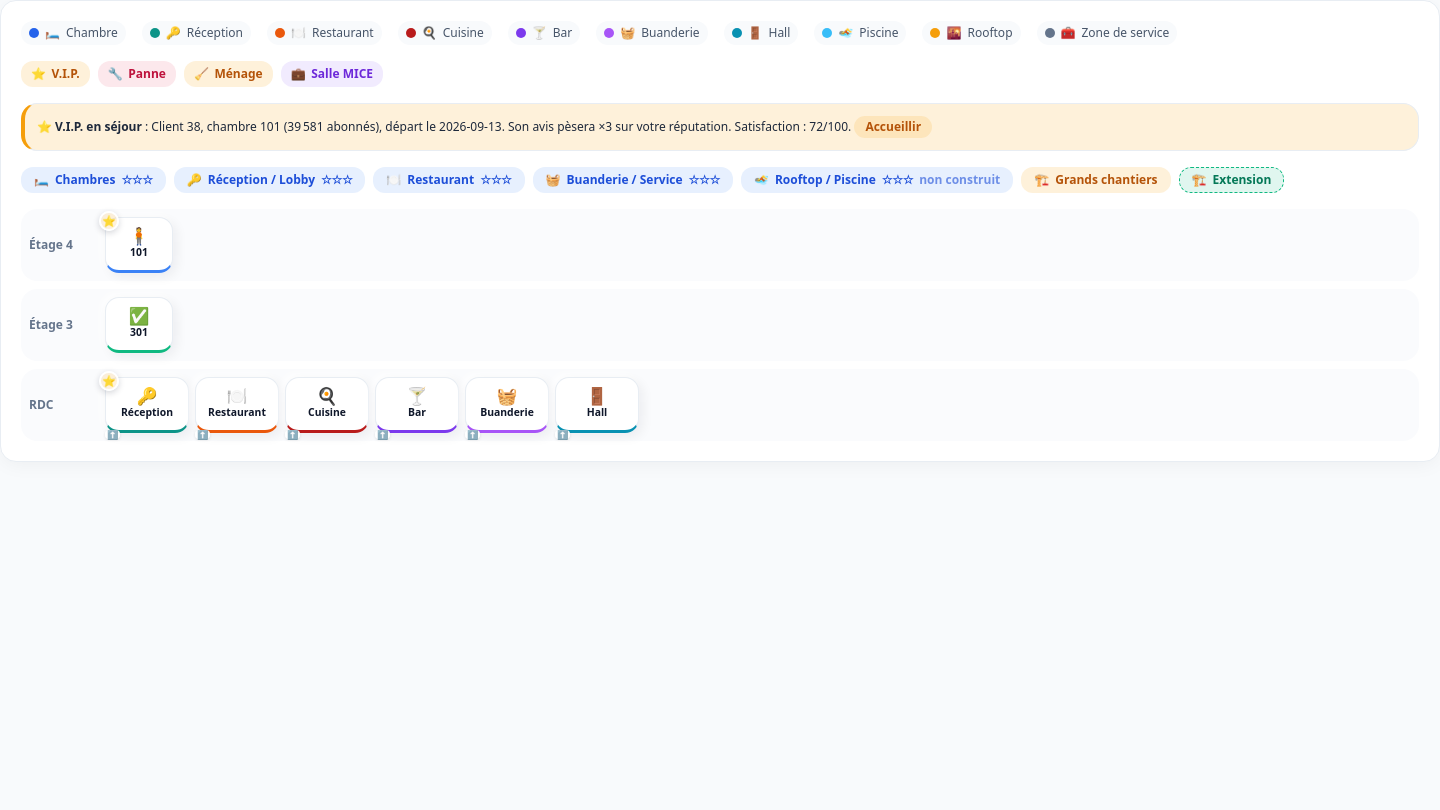
Test: SchematicHotelView / V.I.P. welcome modal › closing the modal removes it
Click the button with test id "schematic-room-101-vip" at point(109, 221), box [99,211,119,231]
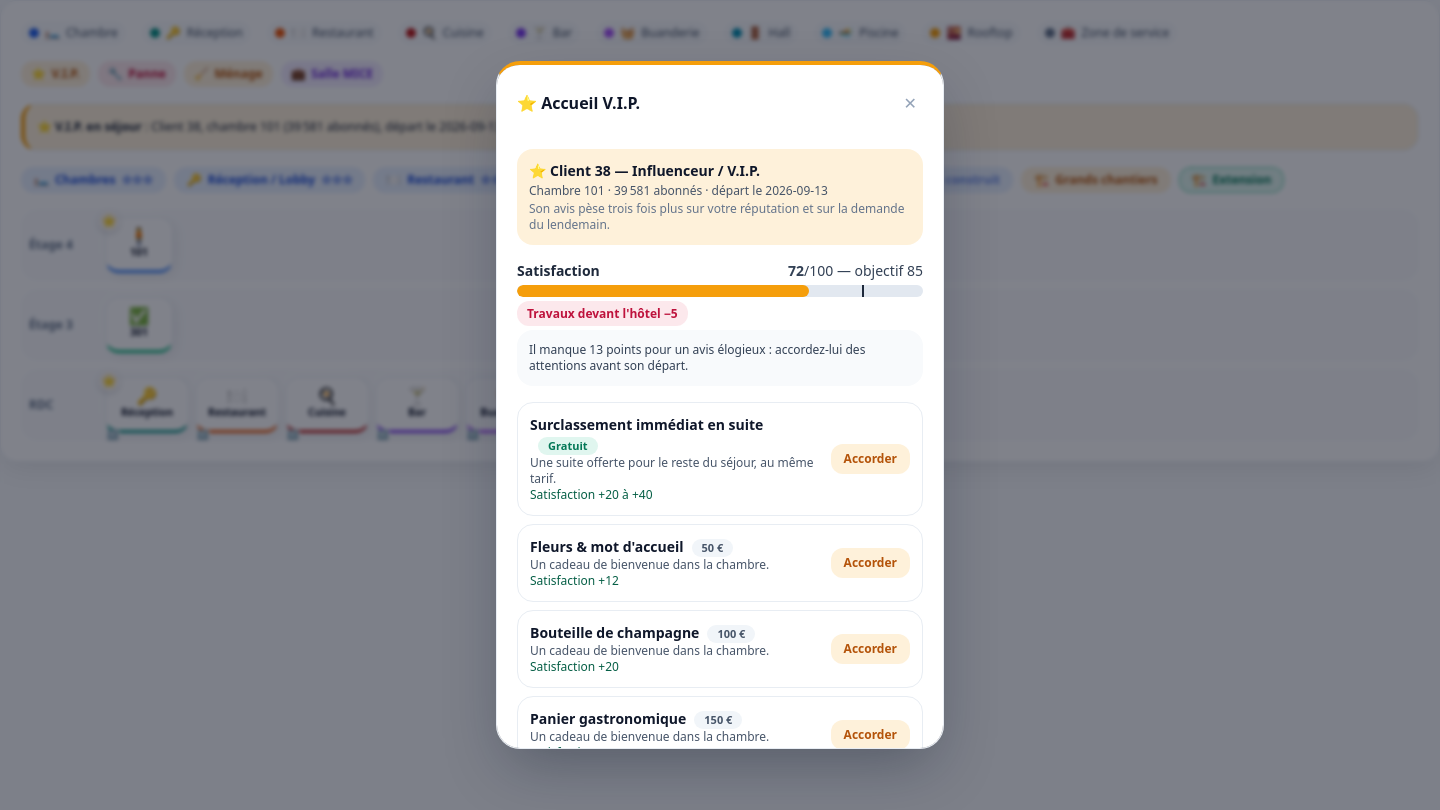
Click the button named "fermer" at point(910, 103), box [898,85,923,121]
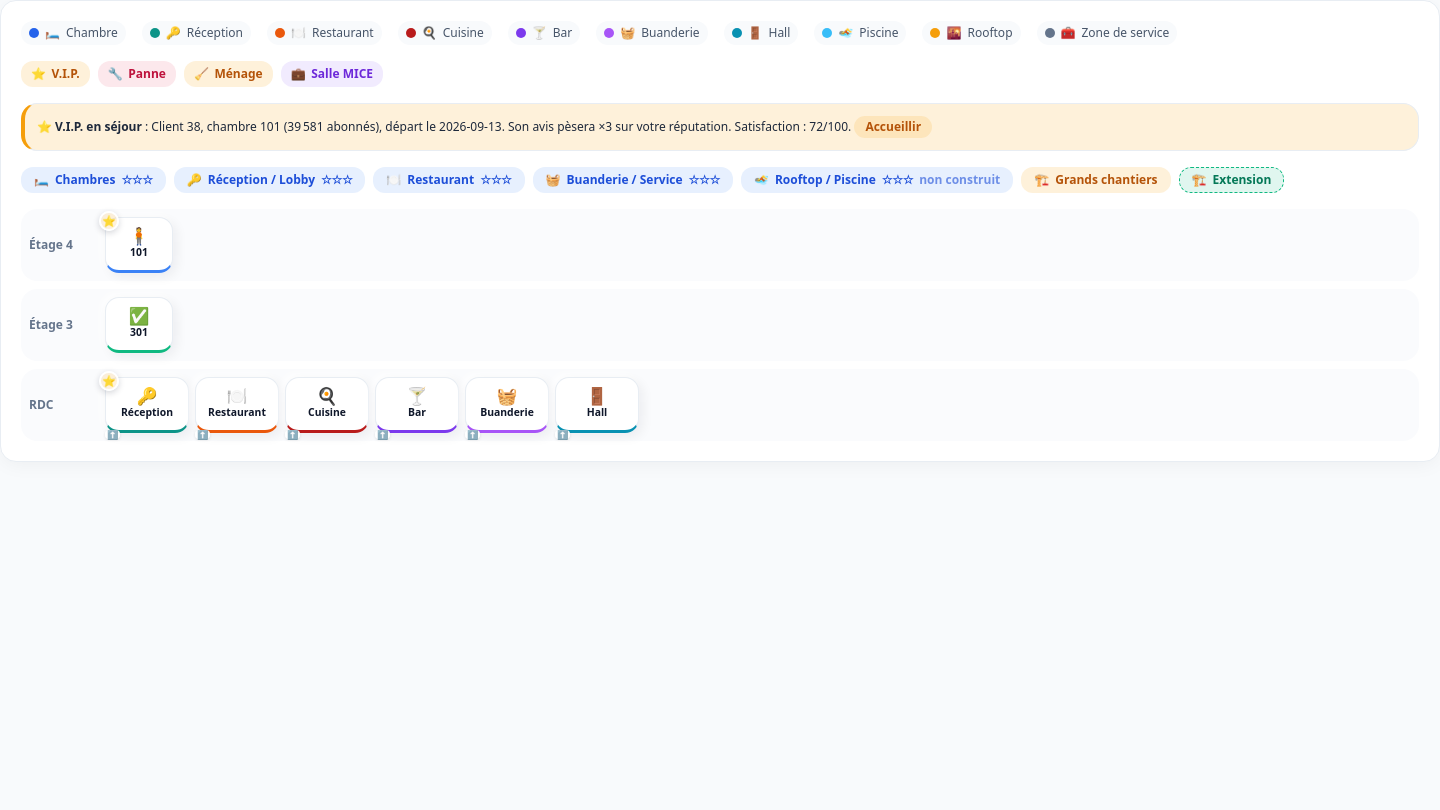
Expected: the dialog is gone
